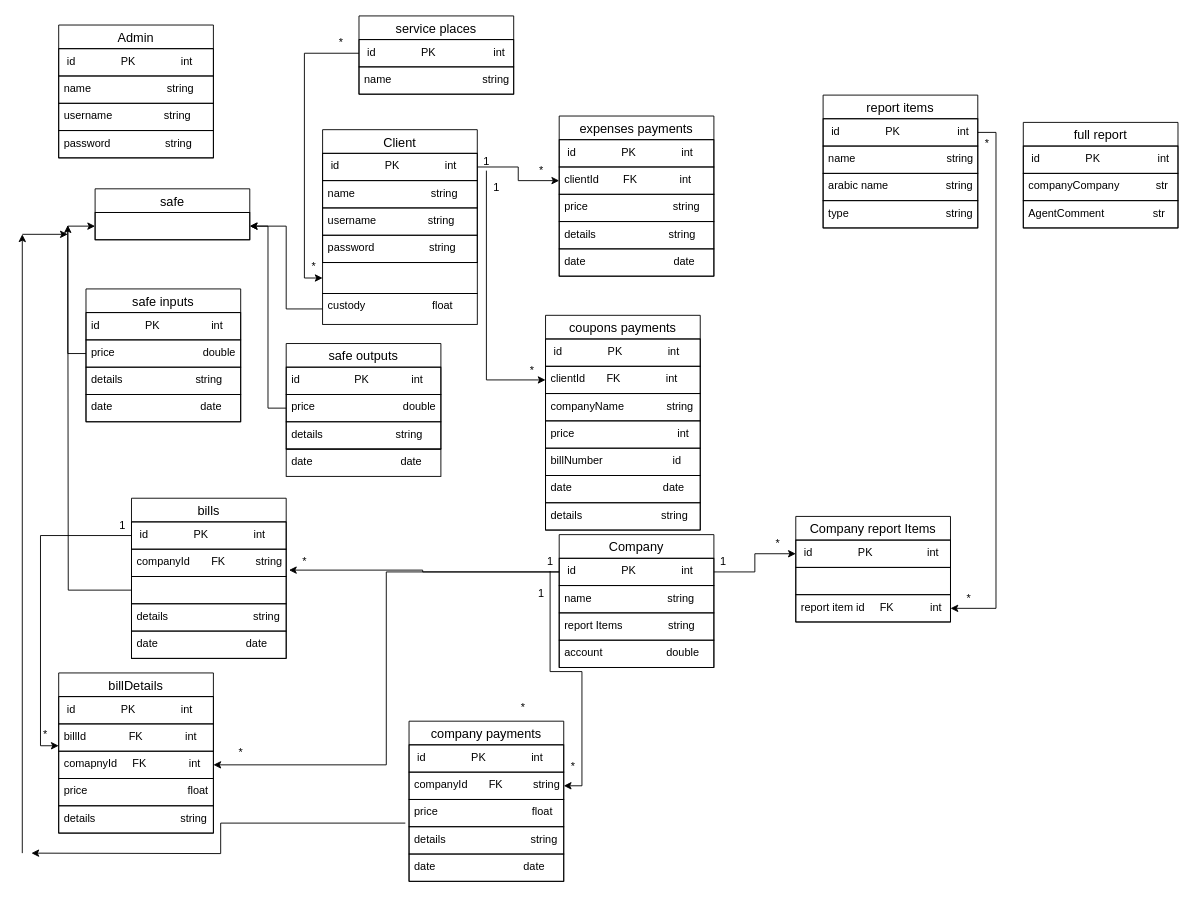
Some shapes in this 1194 by 900 pixel diagram are drawn without their labels. Each missing label, with the centre of its shape:
companyId FK int: point 872,580
service places string: point 399,277
total double: point 172,226
total float: point 208,590
